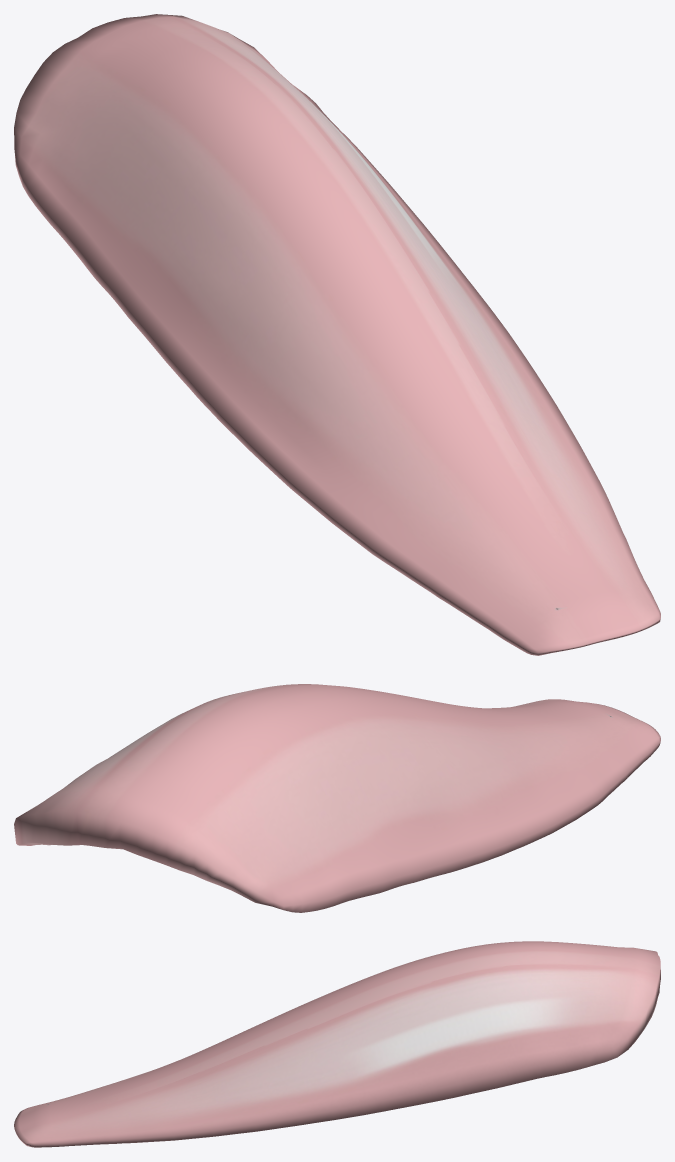
The model's file is Shape key curved nail  (2).fbx.
3 renders of one model, top to bottom at view 1: azimuth 30°, elevation 25°; view 2: azimuth 150°, elevation 25°; view 3: azimuth 270°, elevation 25°, orthographic. The views are drawn at different scales.
Visible parts, largest first — view 1: 1 curved acrylic nail; view 2: 1 curved acrylic nail; view 3: 1 curved acrylic nail.
Part boxes in pixels (box(x1,y1,x2,y2)): 1 curved acrylic nail: box(14, 14, 660, 655); 1 curved acrylic nail: box(14, 684, 660, 912); 1 curved acrylic nail: box(14, 941, 660, 1147).
Size of the model in its own units: 81.25 by 76.65 by 241.
Materials: 1 (1 with a texture image).
